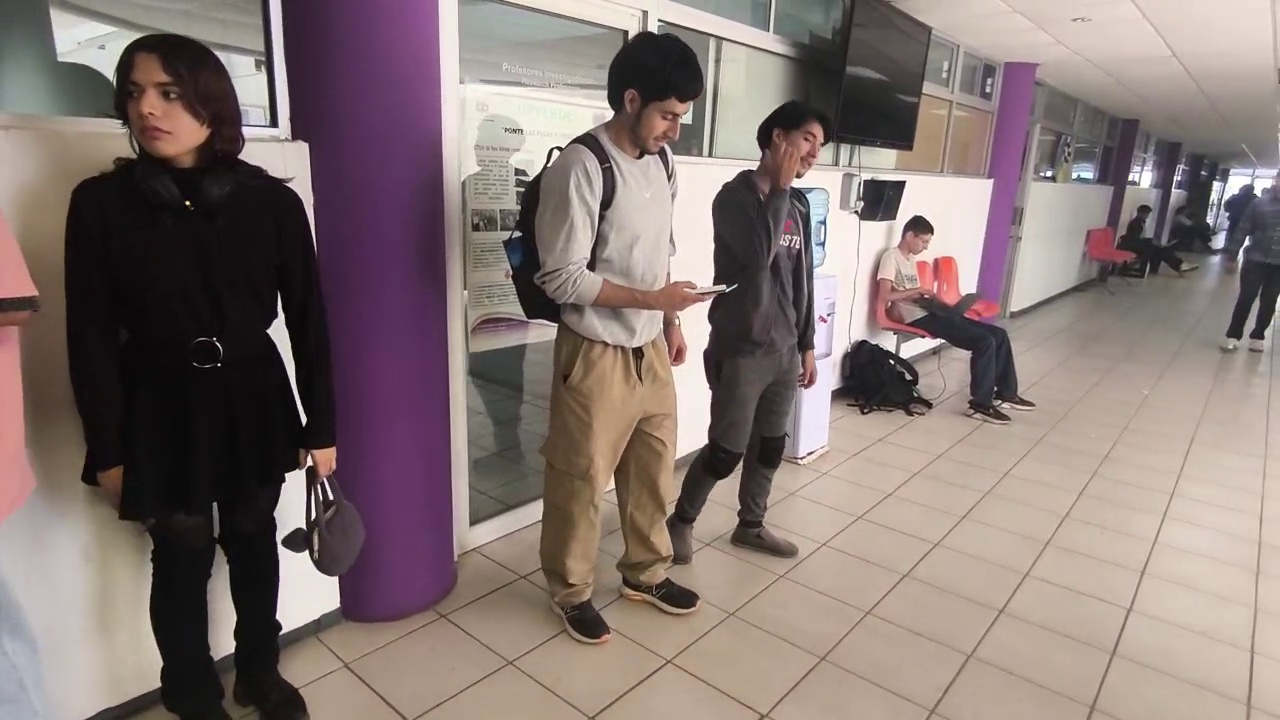mixto2: (685, 279, 741, 298)
